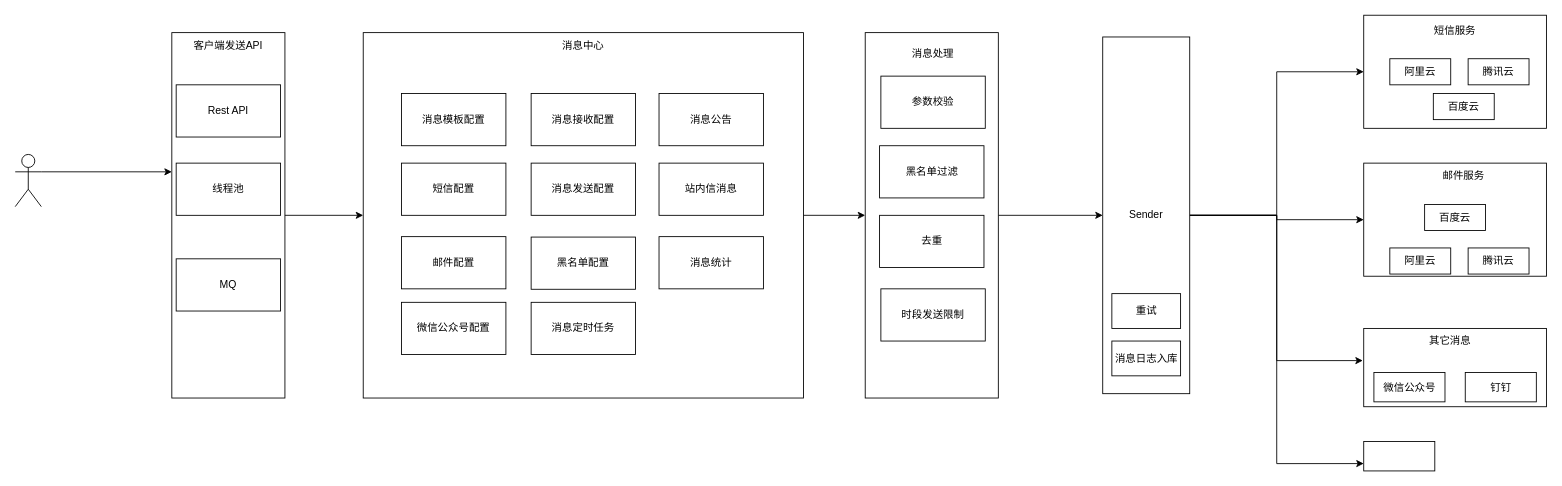
The diagram is 1562 pixels wide and 486 high, and some of its shapes have lost their labels. Here are the shapes that lost their labels. From the top down, the centre of each, then its label:
point (27, 180): Actor
point (1399, 456): 站内信
